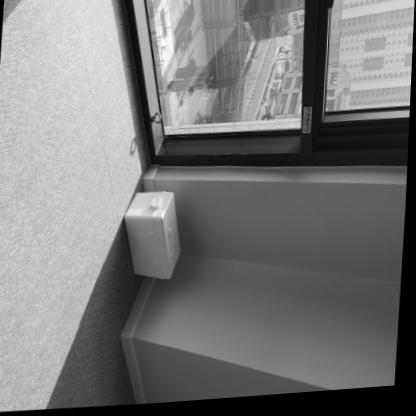DDL: (123, 190, 186, 284)
